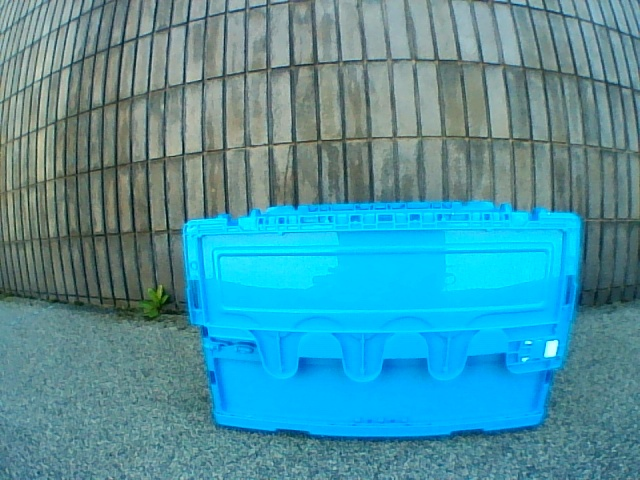blue_box: (184, 201, 582, 438)
